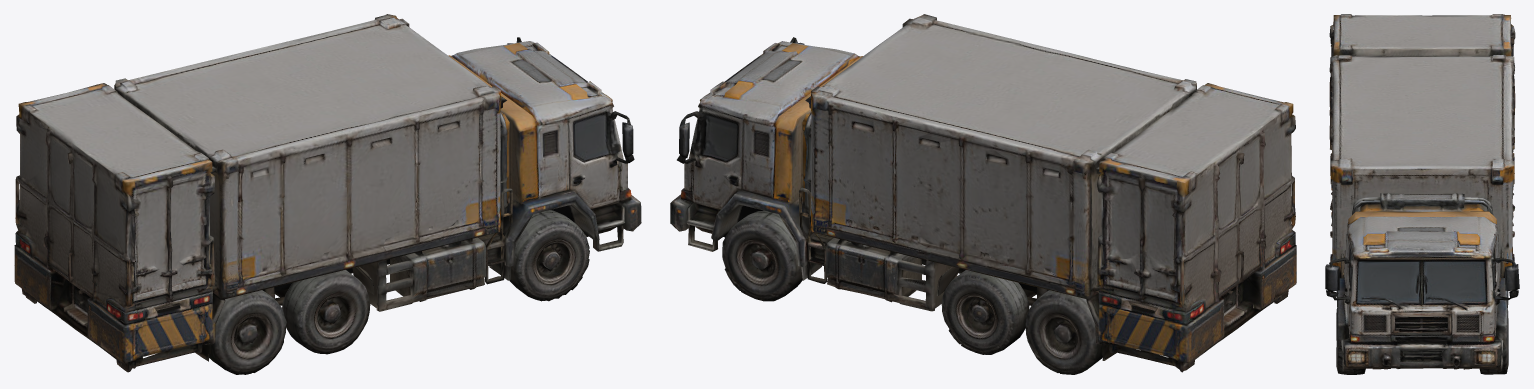
File: PROP-VEH-TRANSPORT.glb
3 views of the same model, side by side, from view 1: azimuth 30°, elevation 25°; view 2: azimuth 150°, elevation 25°; view 3: azimuth 270°, elevation 25° (orthographic). The views are drawn at different scales.
Visible parts, largest first — view 1: tripo_node_711110bd-b12a-4cf3-863a-376aa825f30d; view 2: tripo_node_711110bd-b12a-4cf3-863a-376aa825f30d; view 3: tripo_node_711110bd-b12a-4cf3-863a-376aa825f30d.
Part boxes in pixels (left/top/right/bottom): tripo_node_711110bd-b12a-4cf3-863a-376aa825f30d: left=14, top=14, right=641, bottom=374; tripo_node_711110bd-b12a-4cf3-863a-376aa825f30d: left=670, top=14, right=1296, bottom=374; tripo_node_711110bd-b12a-4cf3-863a-376aa825f30d: left=1325, top=14, right=1519, bottom=374.
Bounding box in the file's own units: 1 × 0.407 × 0.3858.
Materials: 1 (1 with a texture image).
